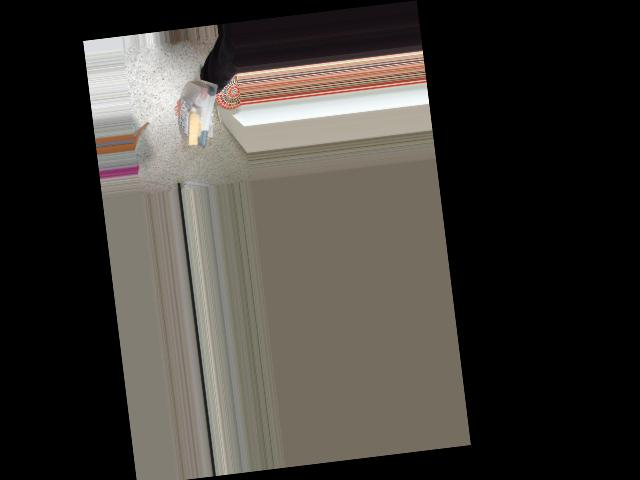cheese: (173, 77, 230, 152)
